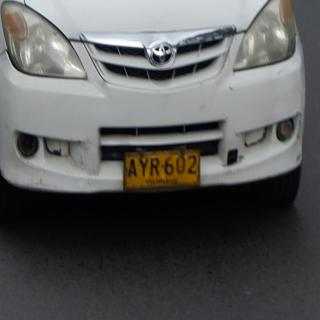license: (125, 150, 201, 192)
